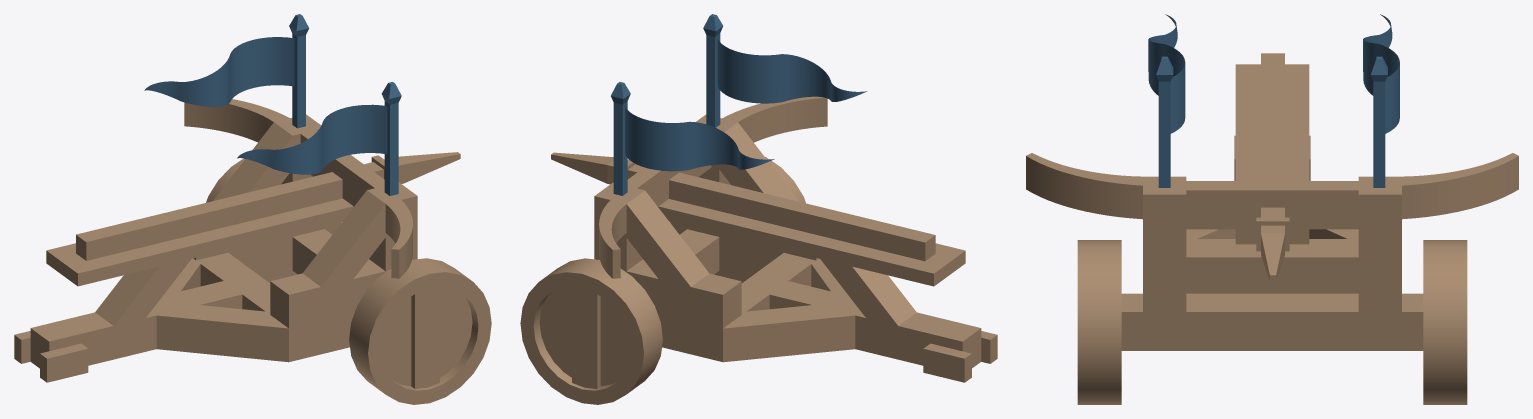
The model's file is missile.glb.
3 views of the same model, side by side, from view 1: azimuth 30°, elevation 25°; view 2: azimuth 150°, elevation 25°; view 3: azimuth 270°, elevation 25° (orthographic). The views are drawn at different scales.
Bounding box in the file's own units: 13.96 × 9.1 × 11.98.
